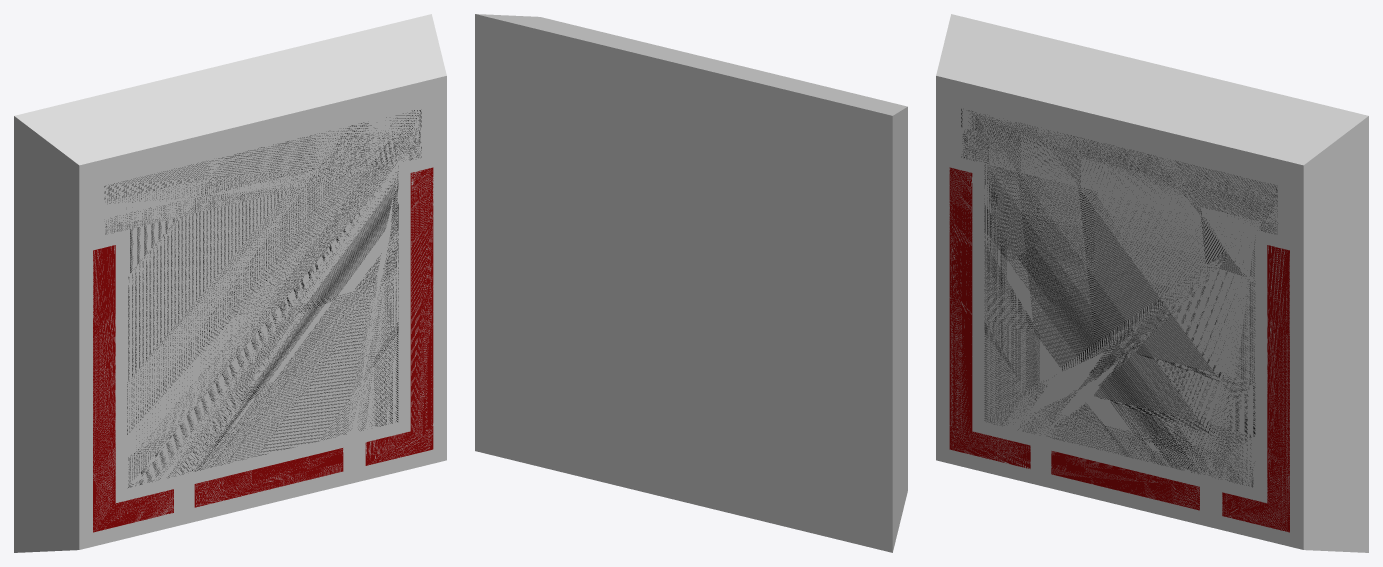
The model's file is scifi_semiotic_s_non-pressurized_area_beyond.fbx.
3 renders of one model, left to right at view 1: azimuth 30°, elevation 25°; view 2: azimuth 150°, elevation 25°; view 3: azimuth 330°, elevation 25°, orthographic.
Visible parts, largest first — view 1: Model; view 2: Model; view 3: Model.
Part boxes in pixels (x1,y1,x2,y2): Model: (14, 14, 446, 552); Model: (475, 14, 907, 552); Model: (936, 14, 1368, 552).
Bounding box in the file's own units: 57.94 × 57.94 × 9.66.
